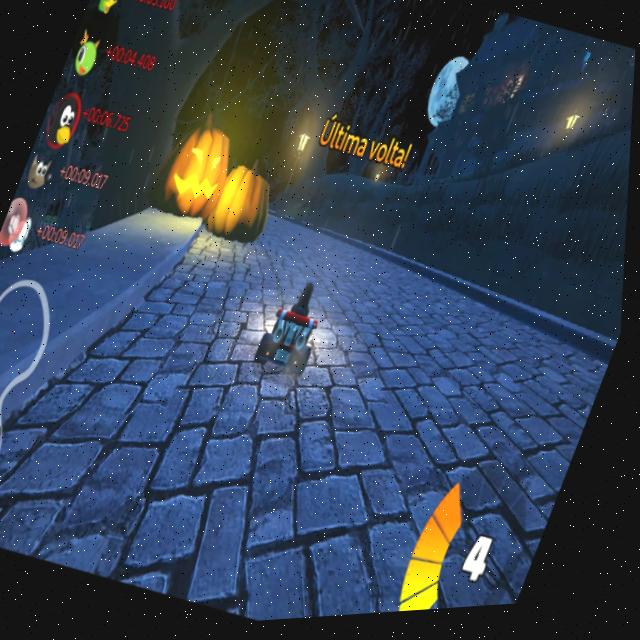obstacle: (156, 124, 290, 253)
player_kart: (251, 280, 335, 387)
track: (259, 218, 389, 311)
